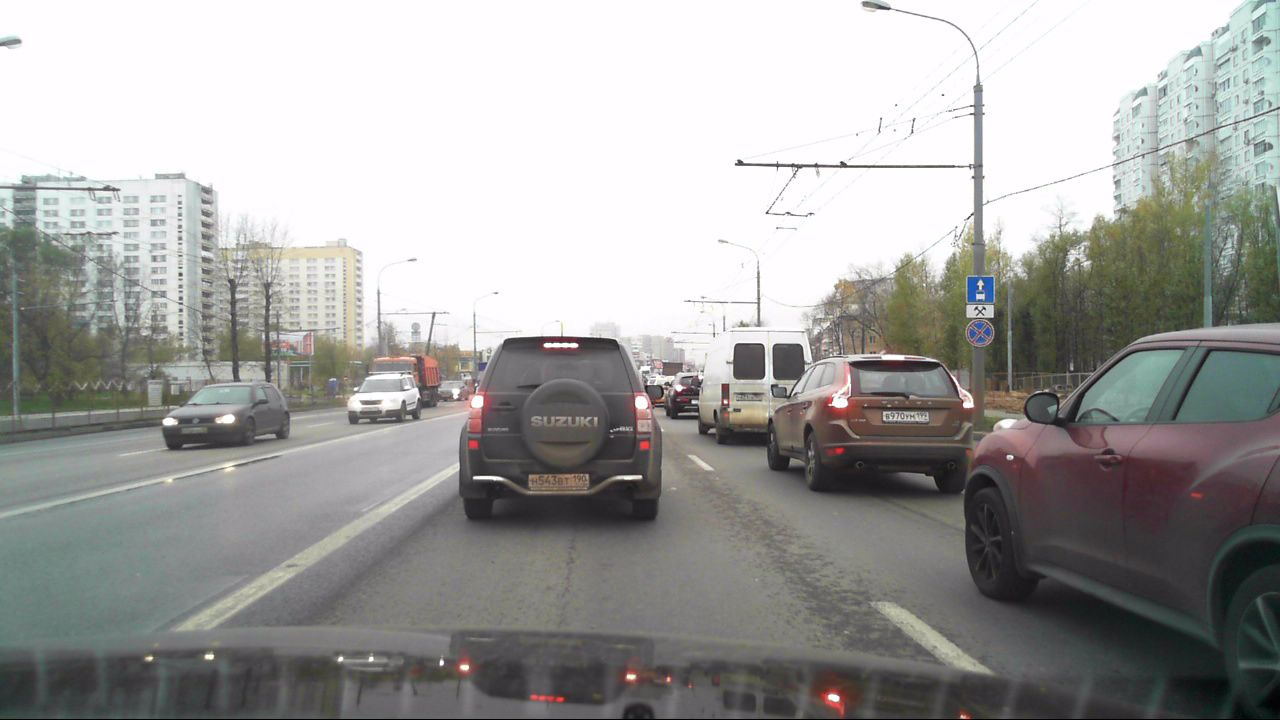No Parking: (964, 320, 995, 349)
